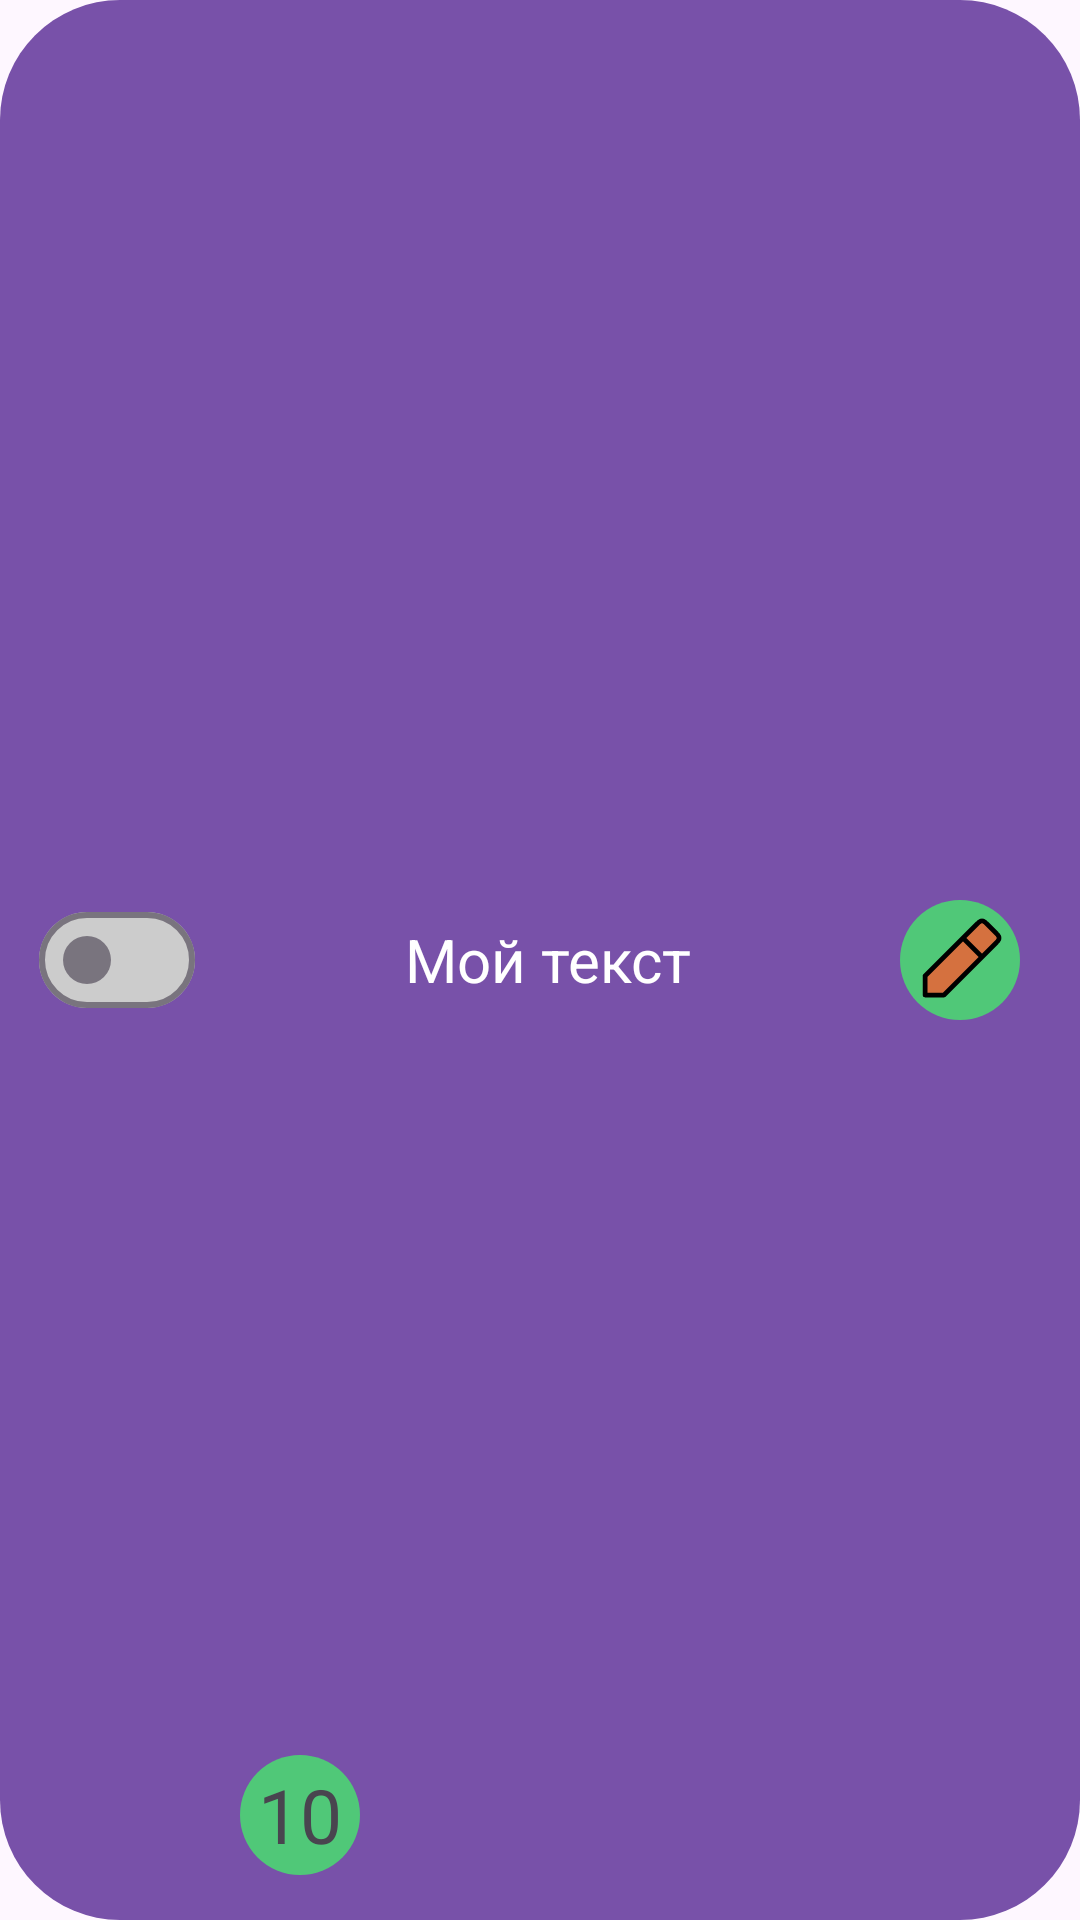

Locate icon controls on the screen. Image size 1080px x 1920px, boxes as (x1,y1,x2,y2).
edit pencil: (900,900,1020,1020)
